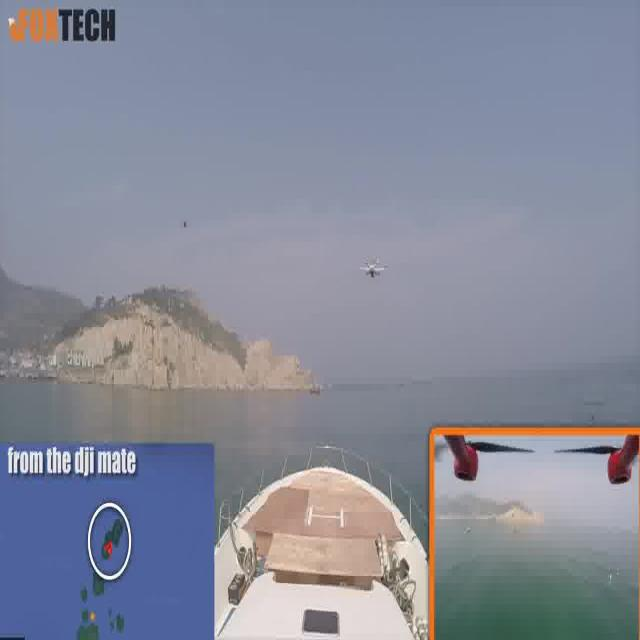drone: (357, 252, 389, 283)
